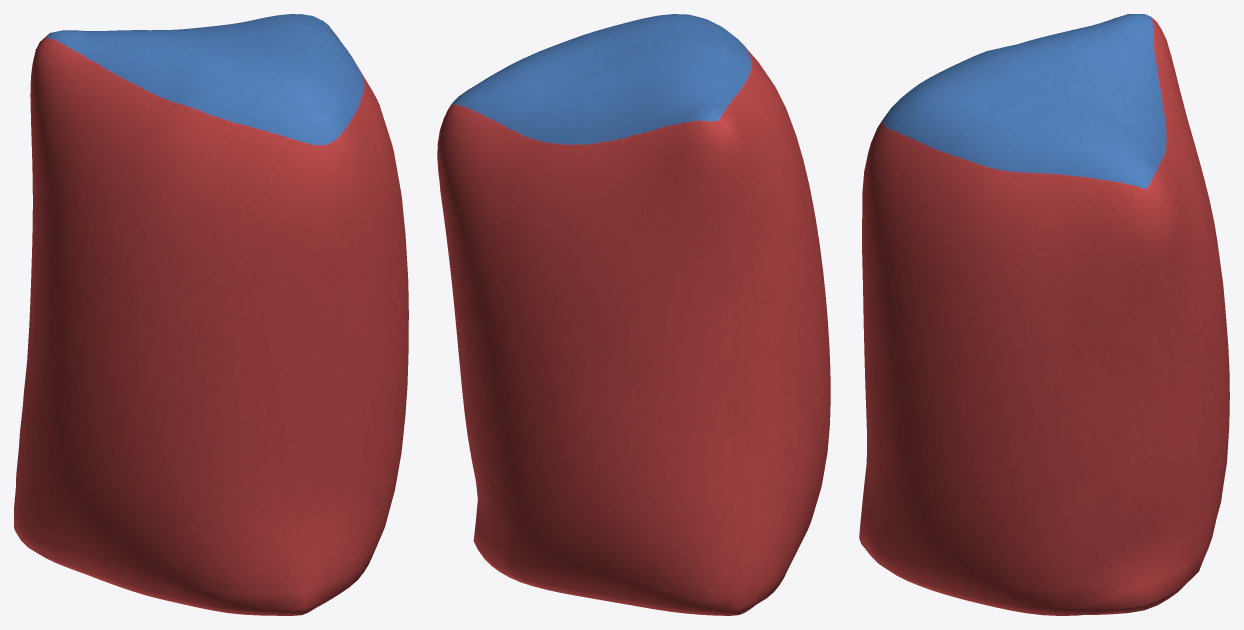
File: Cake_M.fbx
The picture shows the model from 3 angles, left to right: view 1: azimuth 30°, elevation 25°; view 2: azimuth 150°, elevation 25°; view 3: azimuth 270°, elevation 25°; orthographic projection. The views are drawn at different scales.
Parts seen in each view (by area): view 1: Cakes_M; view 2: Cakes_M; view 3: Cakes_M.
Part boxes in pixels (bbox=[...]): Cakes_M: bbox=[14, 14, 408, 615]; Cakes_M: bbox=[437, 14, 830, 615]; Cakes_M: bbox=[859, 14, 1229, 615].
Size of the model in its own units: 125 by 184 by 125.
